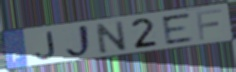2: (129, 17, 160, 50)
E: (160, 11, 196, 46)
F: (194, 7, 224, 41)
J: (64, 23, 95, 59), (34, 30, 58, 61)
N: (93, 19, 129, 56)
